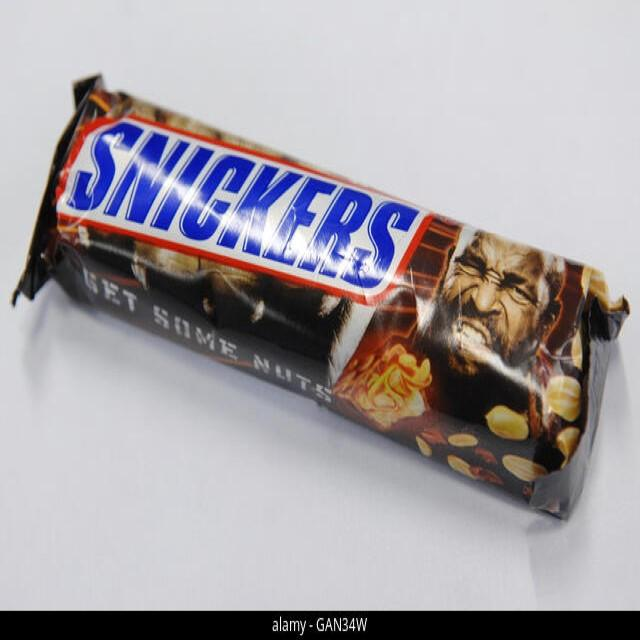snickers_chocolate: (82, 101, 585, 482)
